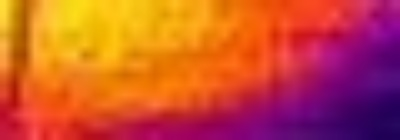Shadow: (90, 95, 400, 140), (301, 1, 400, 95)
